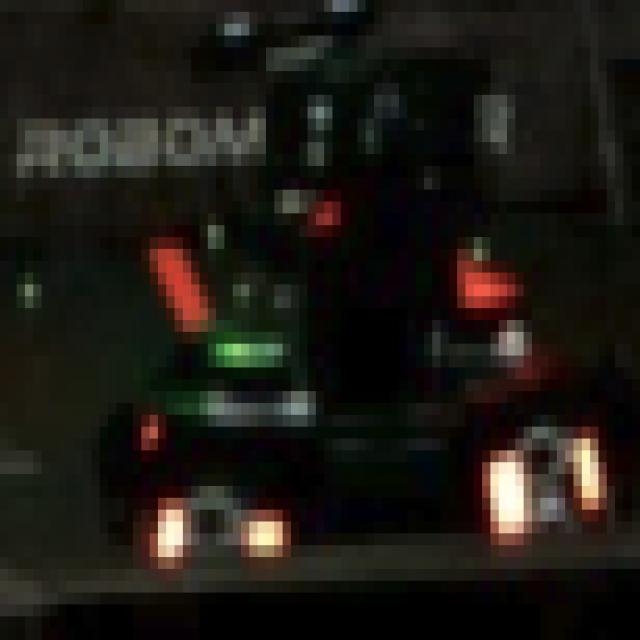Rs: (490, 403, 615, 533)
